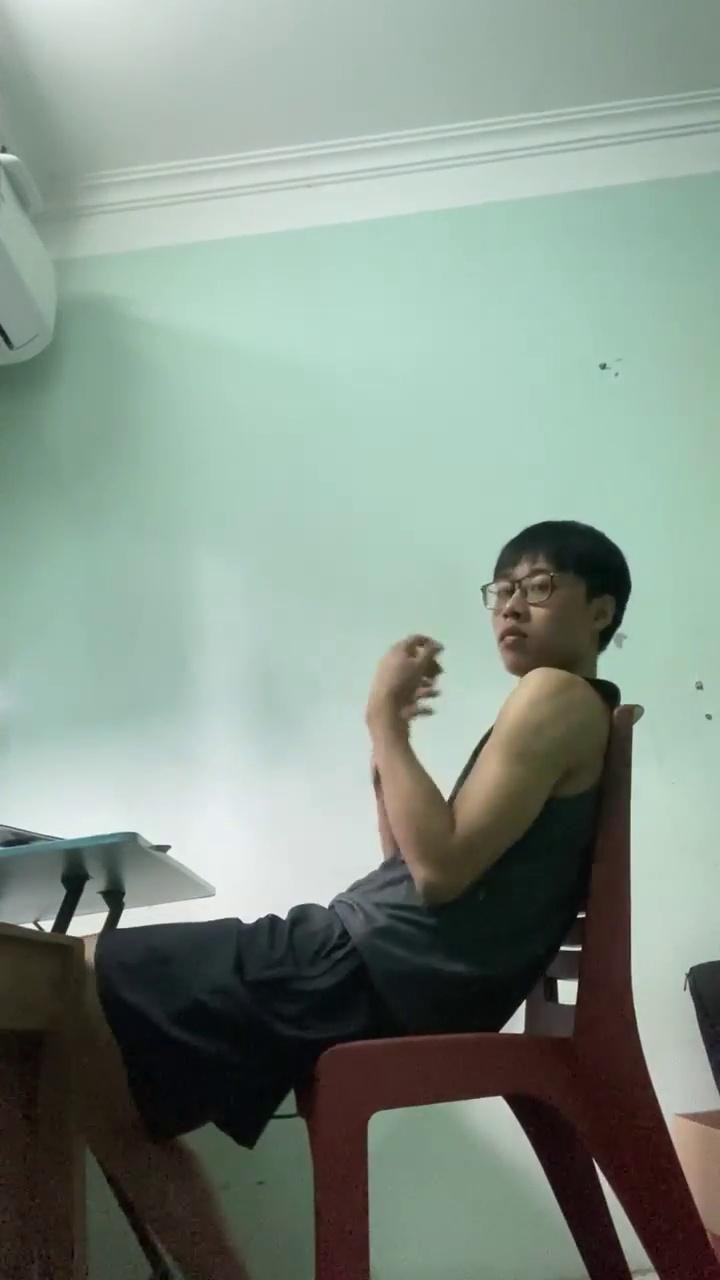BadPosture: (0, 524, 624, 1264)
